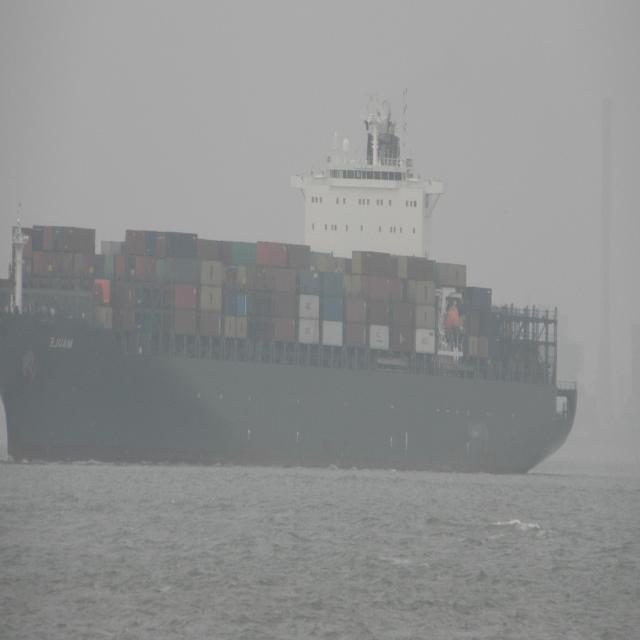cargoship: (0, 108, 588, 463)
